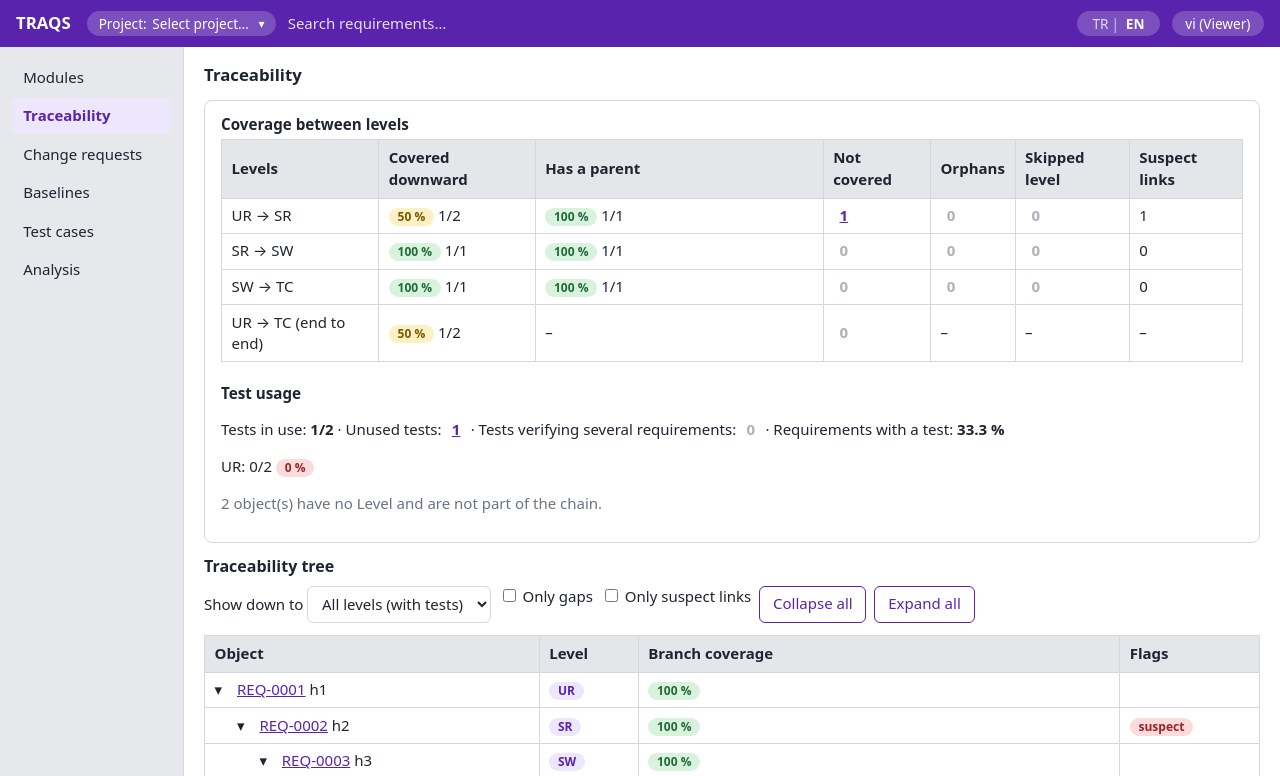
Test: traceability screen › opens the list of uncovered objects and unused tests
Expected: the table named "Coverage between levels" is shown, [221,139,1243,362]
Step 1. Click the button "1" in the row of "UR → SR" → (844, 216), box [833,205,854,227]
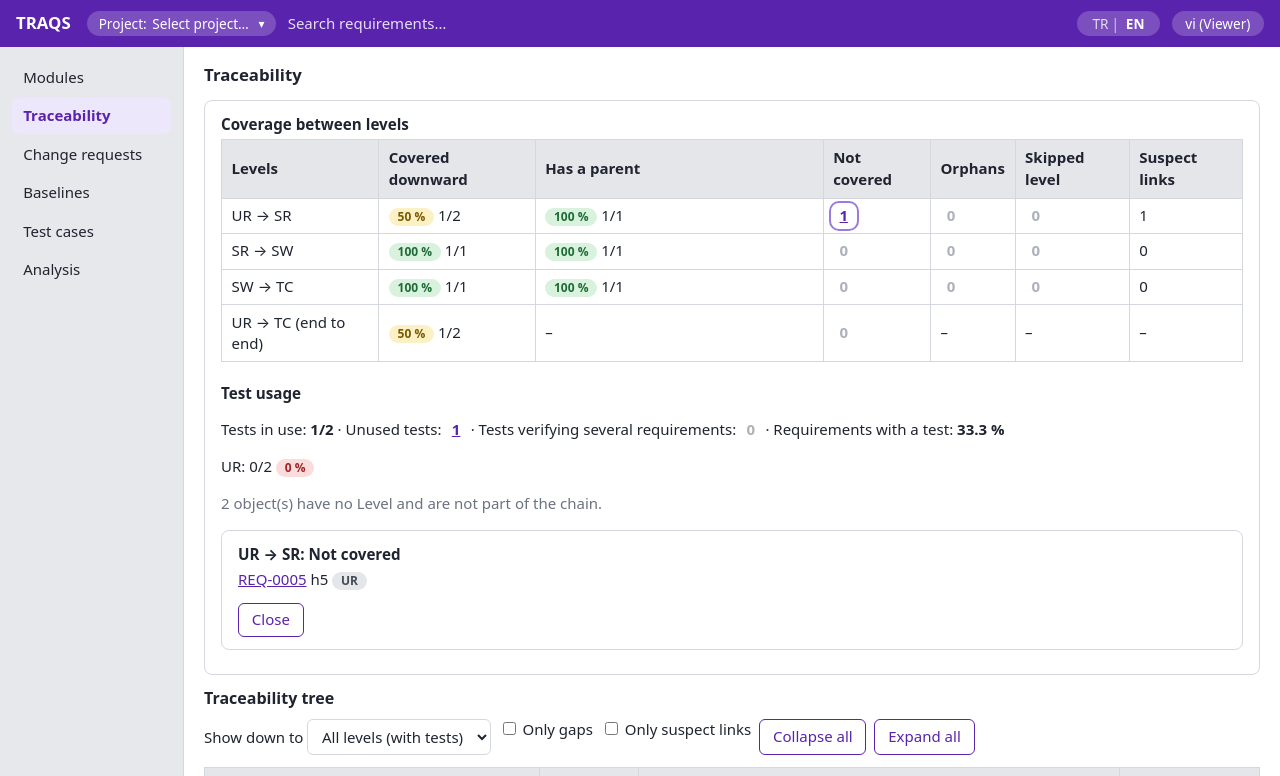
Expected: the link "REQ-0005" is shown, [238,569,306,589]
